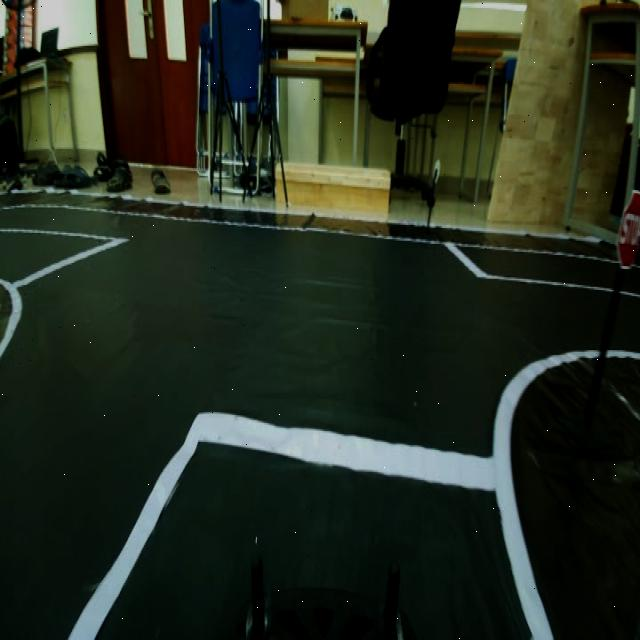stop: (616, 180, 640, 276)
